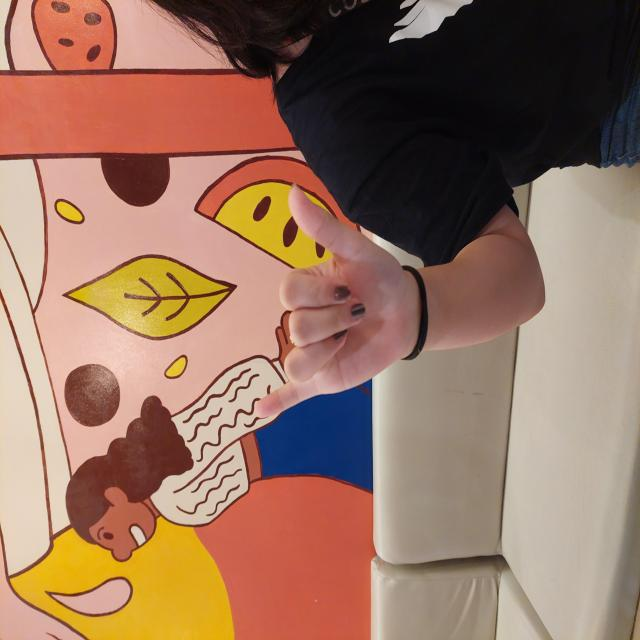Y: (223, 170, 454, 448)
